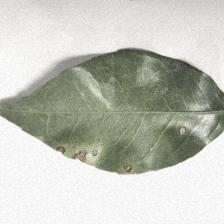canker: (45, 128, 134, 174)
